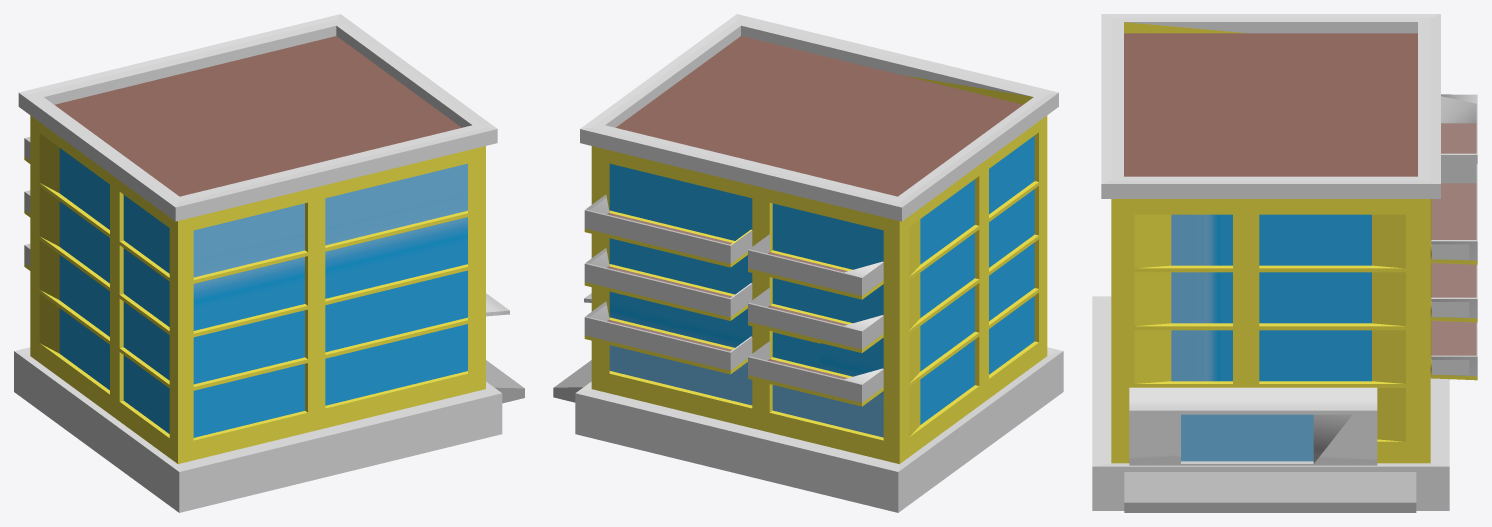
File: YellowBuilding4x5x5.fbx
3 views of the same model, side by side, from view 1: azimuth 30°, elevation 25°; view 2: azimuth 150°, elevation 25°; view 3: azimuth 270°, elevation 25° (orthographic). The views are drawn at different scales.
Parts seen in each view (by area): view 1: House; view 2: House; view 3: House.
Boxes of the visible parts, bbox=[...] form: House: bbox=[14, 14, 524, 512]; House: bbox=[553, 14, 1063, 512]; House: bbox=[1092, 14, 1477, 512].
Size of the model in its own units: 6.24 by 5 by 5.34.
1 material, 1 textured.
